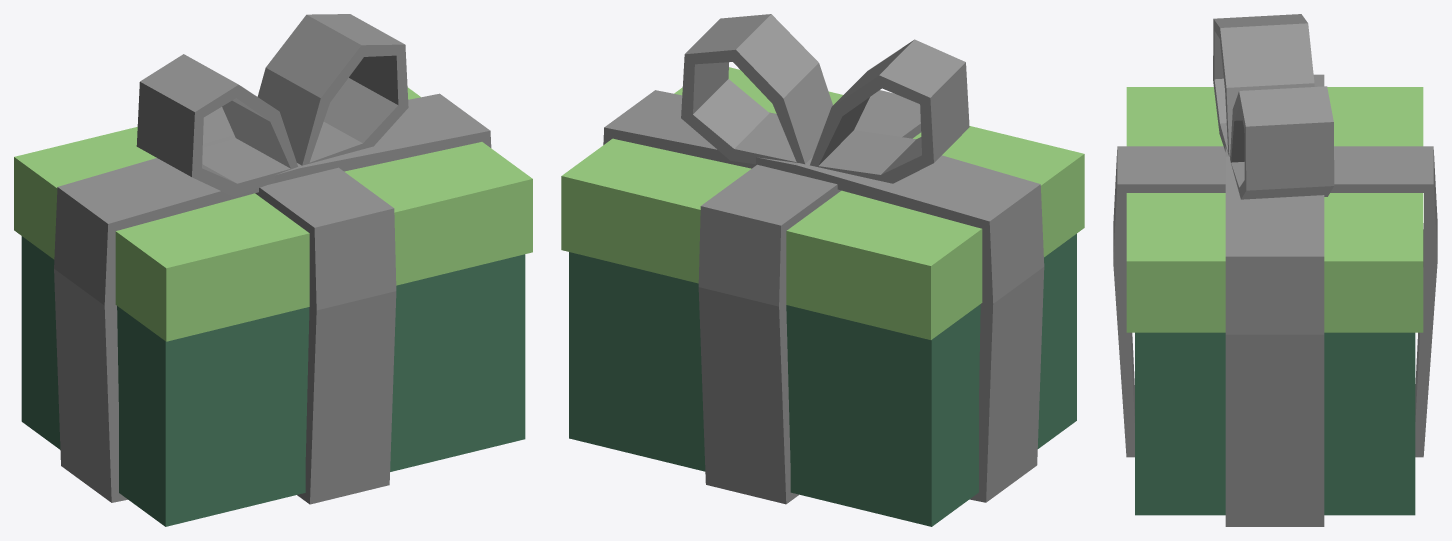
Rendered from Giftbox_01.glb.
3 renders of one model, left to right at view 1: azimuth 30°, elevation 25°; view 2: azimuth 150°, elevation 25°; view 3: azimuth 270°, elevation 25°, orthographic. The views are drawn at different scales.
Visible parts, largest first — view 1: Giftbox_1_mesh; view 2: Giftbox_1_mesh; view 3: Giftbox_1_mesh.
Boxes of the visible parts, x1=… form: Giftbox_1_mesh: x1=14, y1=14, x2=532, y2=526; Giftbox_1_mesh: x1=561, y1=14, x2=1084, y2=526; Giftbox_1_mesh: x1=1113, y1=14, x2=1437, y2=526.
Bounding box in the file's own units: 0.3156 × 0.3084 × 0.2338.
1 material, 1 textured.
